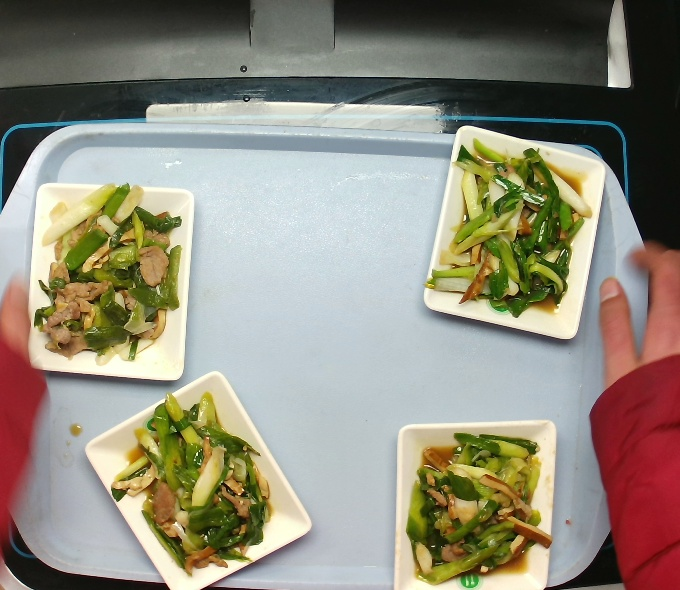wcq-SuanYeChaoRou: (414, 133, 598, 323), (105, 387, 283, 583), (25, 178, 190, 370), (401, 423, 559, 590)
